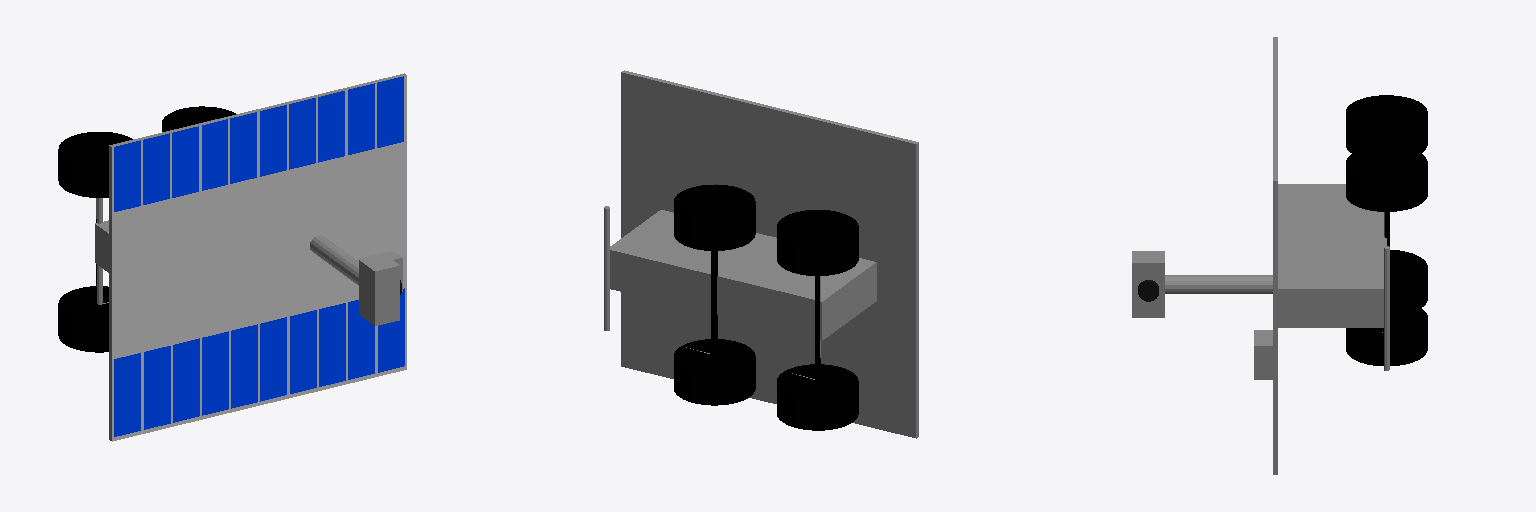
The picture shows the model from 3 angles: view 1: azimuth 30°, elevation 25°; view 2: azimuth 150°, elevation 25°; view 3: azimuth 270°, elevation 25°; orthographic projection.
Visible parts, largest first — view 1: Robot_virtuel_V0_sans_roues.002, Robot_virtuel_V0_sans_roues.001, Robot_virtuel_V0_sans_roues; view 2: Robot_virtuel_V0_sans_roues, Robot_virtuel_V0_sans_roues.001; view 3: Robot_virtuel_V0_sans_roues, Robot_virtuel_V0_sans_roues.001.
Boxes of the visible parts, <box> form: Robot_virtuel_V0_sans_roues.002: <box>112,76,406,441</box>; Robot_virtuel_V0_sans_roues.001: <box>58,106,235,352</box>; Robot_virtuel_V0_sans_roues: <box>95,73,406,440</box>; Robot_virtuel_V0_sans_roues: <box>604,70,918,438</box>; Robot_virtuel_V0_sans_roues.001: <box>674,184,858,430</box>; Robot_virtuel_V0_sans_roues: <box>1132,37,1389,474</box>; Robot_virtuel_V0_sans_roues.001: <box>1346,95,1427,365</box>.
Size of the model in its own units: 315 by 300 by 273.
Materials: 5 (1 with a texture image).